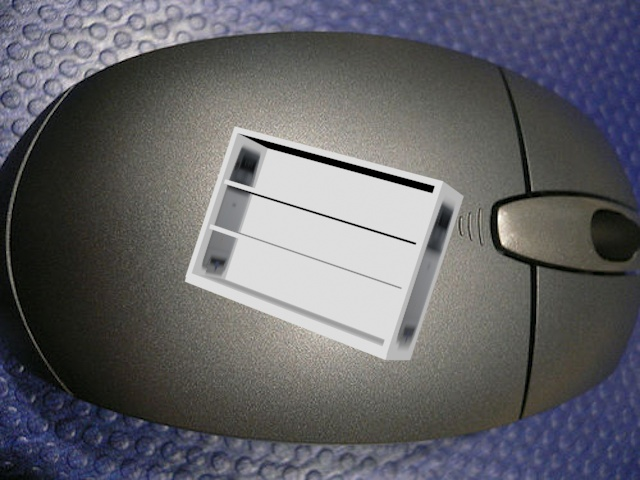bookcase: (185, 121, 464, 367)
